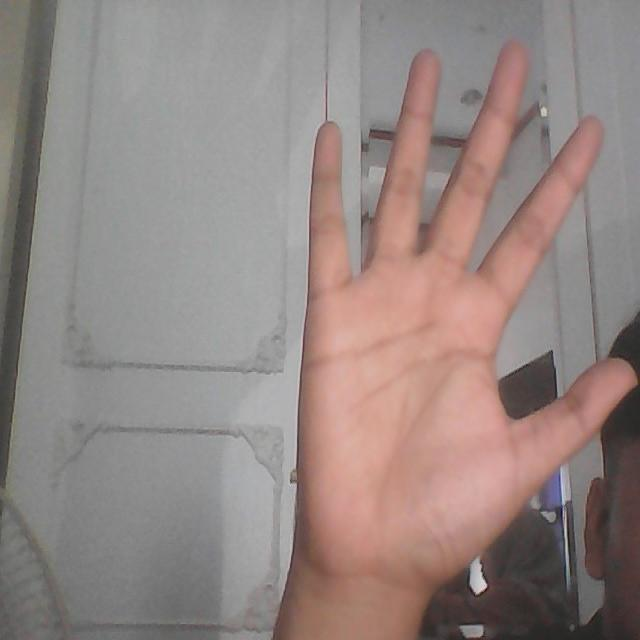hand: (286, 36, 638, 610)
